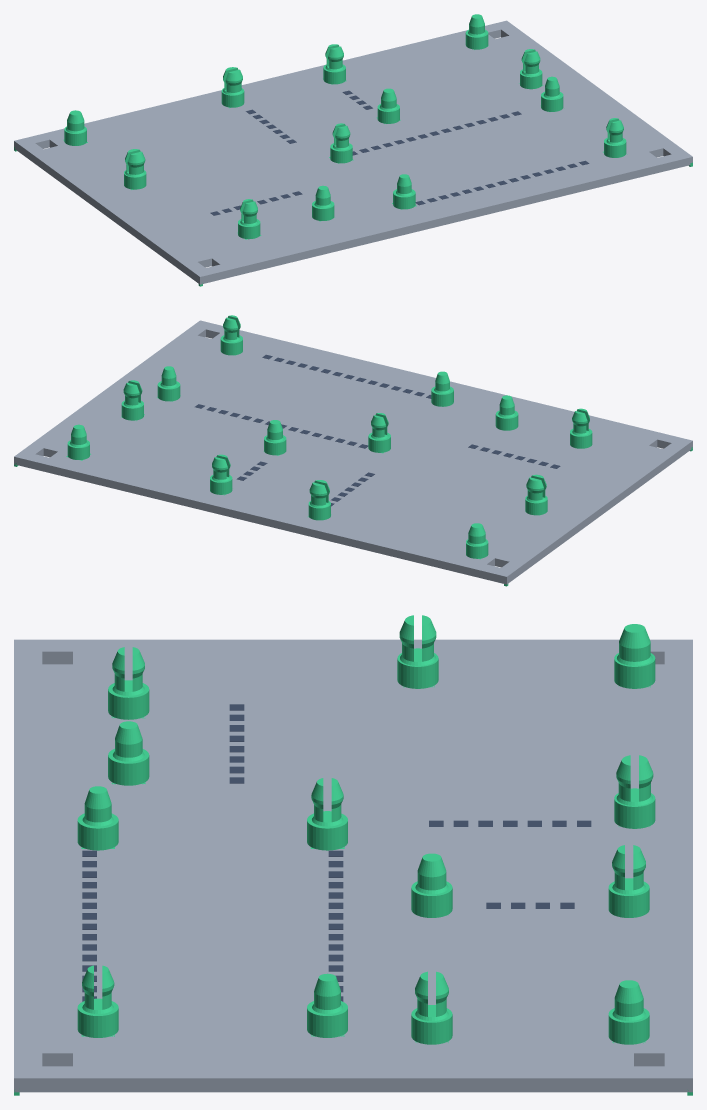
Rendered from simulacion_placa_sola_colores.glb.
3 views of the same model, one above another, from view 1: azimuth 30°, elevation 25°; view 2: azimuth 150°, elevation 25°; view 3: azimuth 270°, elevation 25° (orthographic). The views are drawn at different scales.
Parts seen in each view (by area): view 1: Baquelita_PETG_Gris, Soportes_Ganchos_Y_Palitos_Verde, Huecos_49_Pines; view 2: Baquelita_PETG_Gris, Soportes_Ganchos_Y_Palitos_Verde, Huecos_49_Pines; view 3: Baquelita_PETG_Gris, Soportes_Ganchos_Y_Palitos_Verde, Huecos_49_Pines.
Boxes of the visible parts, x1,y1,x2,y2 form: Baquelita_PETG_Gris: [14, 20, 692, 284]; Soportes_Ganchos_Y_Palitos_Verde: [14, 14, 692, 286]; Huecos_49_Pines: [210, 90, 589, 215]; Baquelita_PETG_Gris: [14, 320, 692, 584]; Soportes_Ganchos_Y_Palitos_Verde: [14, 315, 692, 586]; Huecos_49_Pines: [195, 354, 560, 506]; Baquelita_PETG_Gris: [14, 639, 692, 1092]; Soportes_Ganchos_Y_Palitos_Verde: [14, 615, 692, 1095]; Huecos_49_Pines: [82, 704, 591, 1001].
Size of the model in its own units: 107 by 8.8 by 70.
